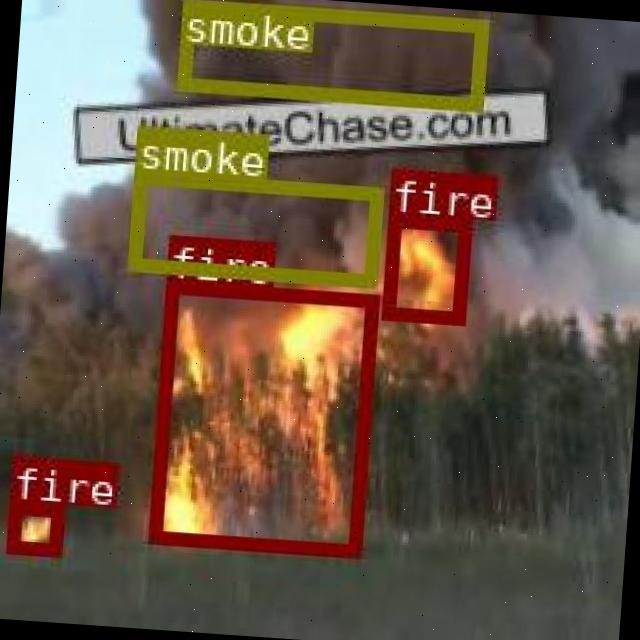fire: (146, 279, 377, 556), (381, 210, 468, 322), (4, 498, 61, 552)
smoke: (176, 0, 485, 107), (126, 168, 380, 286)
